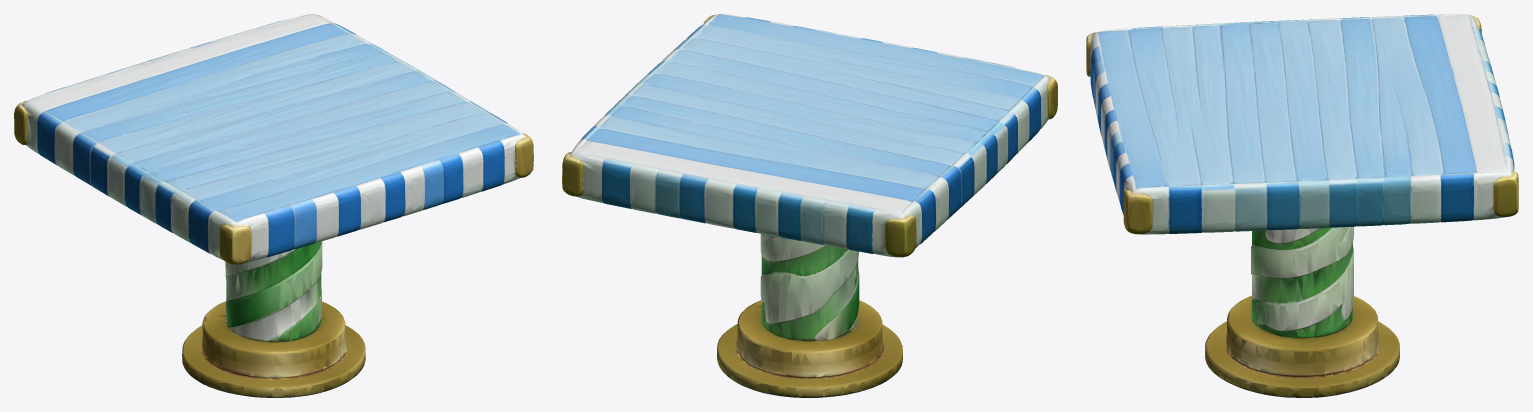
File: platform_3.glb
3 views of the same model, side by side, from view 1: azimuth 30°, elevation 25°; view 2: azimuth 150°, elevation 25°; view 3: azimuth 270°, elevation 25° (orthographic). The views are drawn at different scales.
Visible parts, largest first — view 1: tripo_node_4c2f73a7-3a69-450c-a746-6cc6455215f4; view 2: tripo_node_4c2f73a7-3a69-450c-a746-6cc6455215f4; view 3: tripo_node_4c2f73a7-3a69-450c-a746-6cc6455215f4.
Boxes of the visible parts, bbox=[...] form: tripo_node_4c2f73a7-3a69-450c-a746-6cc6455215f4: bbox=[14, 14, 533, 397]; tripo_node_4c2f73a7-3a69-450c-a746-6cc6455215f4: bbox=[562, 14, 1057, 397]; tripo_node_4c2f73a7-3a69-450c-a746-6cc6455215f4: bbox=[1086, 14, 1518, 397].
Bounding box in the file's own units: 0.9799 × 0.6414 × 0.9754.
Materials: 1 (1 with a texture image).
